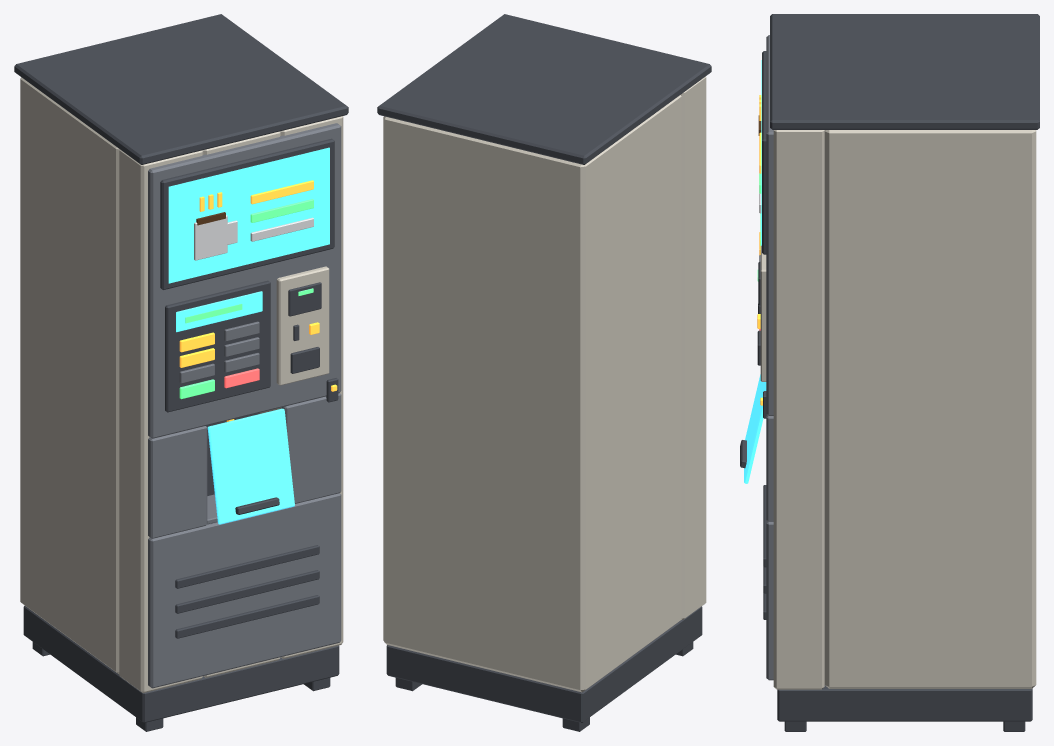
The model's file is distributore_caffe_con_bicchiere.fbx.
3 renders of one model, left to right at view 1: azimuth 30°, elevation 25°; view 2: azimuth 150°, elevation 25°; view 3: azimuth 270°, elevation 25°, orthographic. The views are drawn at different scales.
Visible parts, largest first — view 1: Cabinet_Posteriore, Tetto_Distributore, Porta_Parte_Bassa, Porta_Parte_Alta, Cabinet_Fianco_SX, Insegna_Pannello, Zoccolo_Inferiore, Sportello_Pannello, Pannello_Bottoni_Base, Porta_Montante_SX, Porta_Montante_DX, Modulo_Pagamento (+12 smaller); view 2: Cabinet_Posteriore, Tetto_Distributore, Cabinet_Fianco_SX, Zoccolo_Inferiore; view 3: Cabinet_Posteriore, Tetto_Distributore, Cabinet_Fianco_DX, Zoccolo_Inferiore, Porta_Parte_Alta, Porta_Parte_Bassa, Sportello_Pannello, Insegna_Cornice, Modulo_Pagamento, Porta_Montante_DX.
Part boxes in pixels (x1,y1,x2,y2): Cabinet_Posteriore: [20, 77, 119, 674]; Tetto_Distributore: [14, 14, 348, 164]; Porta_Parte_Bassa: [148, 493, 341, 688]; Porta_Parte_Alta: [148, 123, 341, 438]; Cabinet_Fianco_SX: [119, 149, 203, 693]; Insegna_Pannello: [168, 147, 329, 283]; Zoccolo_Inferiore: [23, 605, 339, 722]; Sportello_Pannello: [207, 408, 294, 524]; Pannello_Bottoni_Base: [165, 280, 270, 412]; Porta_Montante_SX: [148, 426, 207, 538]; Porta_Montante_DX: [281, 393, 341, 503]; Modulo_Pagamento: [276, 266, 329, 385]; Cabinet_Posteriore: [383, 95, 681, 692]; Tetto_Distributore: [377, 14, 711, 164]; Cabinet_Fianco_SX: [681, 76, 706, 619]; Zoccolo_Inferiore: [386, 606, 702, 722]; Cabinet_Posteriore: [824, 130, 1036, 688]; Tetto_Distributore: [770, 14, 1039, 129]; Cabinet_Fianco_DX: [773, 130, 824, 689]; Zoccolo_Inferiore: [777, 685, 1032, 721]; Porta_Parte_Alta: [766, 35, 773, 415]; Porta_Parte_Bassa: [766, 520, 773, 680]; Sportello_Pannello: [744, 374, 766, 483]; Insegna_Cornice: [762, 51, 766, 254]; Modulo_Pagamento: [760, 245, 766, 381]; Porta_Montante_DX: [766, 415, 773, 521].
Size of the model in its own units: 70 by 187 by 82.23.
